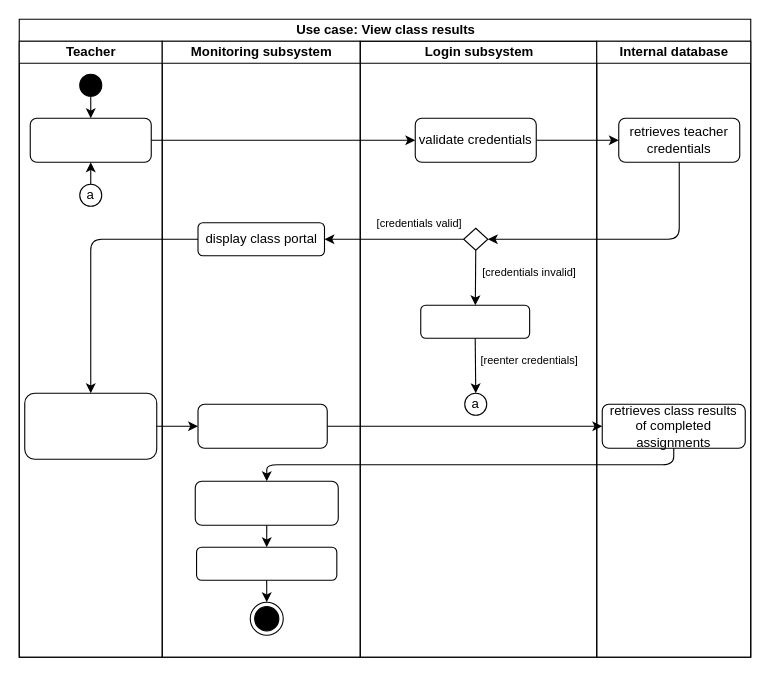
Some shapes in this 770 by 677 pixel diagram are drawn without their labels. Each missing label, with the centre of its shape:
"calculate class average mark of assignment" belongs at (266,502).
"display class results" belongs at (266,563).
"prompt teacher" belongs at (475,321).
"retrieves class results from database" belongs at (262,425).
"teacher input password and username" belongs at (90,139).
"teacher selects view class results" belongs at (90,425).
